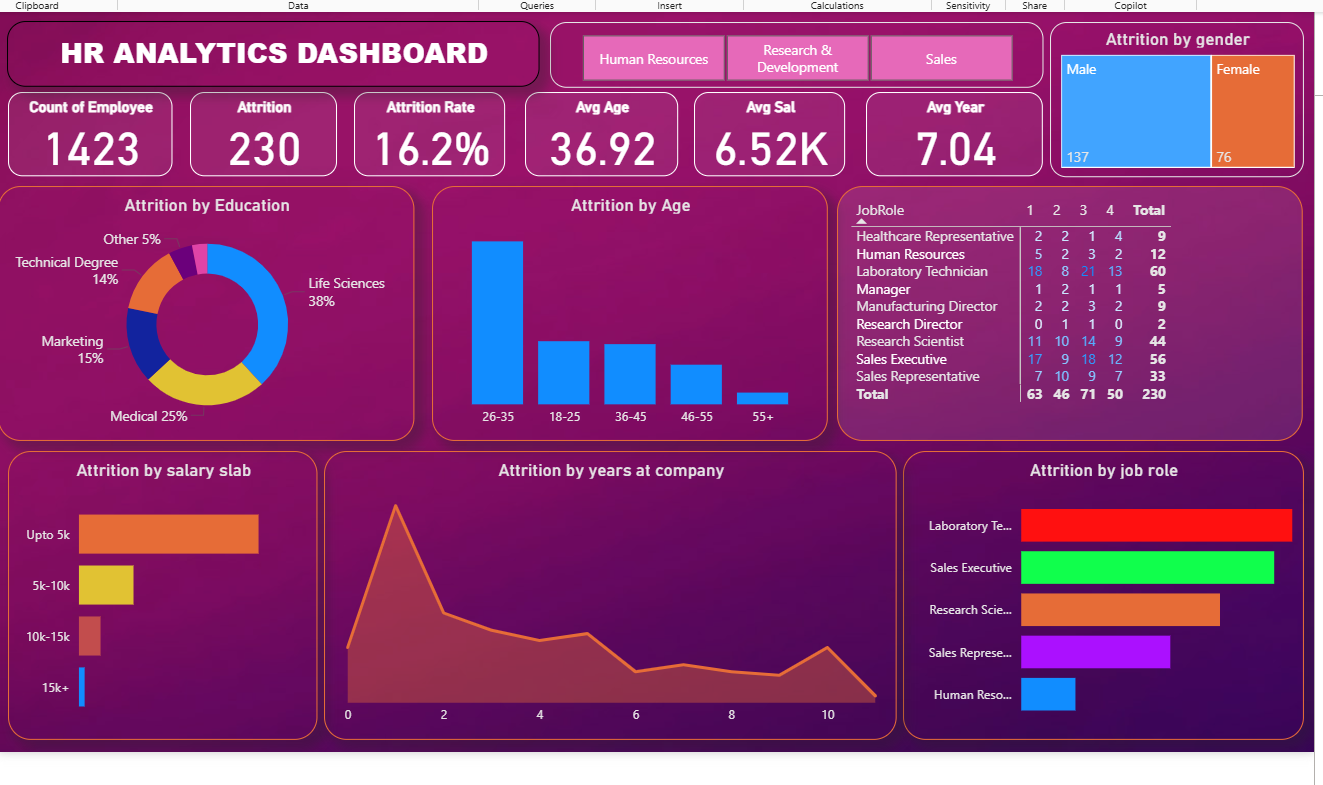

What the dashboard file says about the page in this screenshot:
{"tool":"powerbi","page":{"name":"HR_Dashboard","canvas":[1280,720],"ordinal":0},"visuals":[{"type":"card","title":"Count of Employee","fields":{"Values":["CountNonNull(HR_Analytics.EmpID)"]},"box":[9.3,77.6,159.9,82.3],"z":0},{"type":"card","title":"Attrition","fields":{"Values":["Sum(HR_Analytics.AttritionCount)"]},"box":[186.3,77.6,142.8,82.3],"z":1000},{"type":"card","title":"Attrition Rate","fields":{"Values":["HR_Analytics.AttritionRate"]},"box":[346.2,77.6,147.5,82.3],"z":2000},{"type":"card","title":"Avg Age","fields":{"Values":["Avg(HR_Analytics.Age)"]},"box":[512.3,77.6,149,82.3],"z":3000},{"type":"card","title":"Avg Sal","fields":{"Values":["Avg(HR_Analytics.MonthlyIncome)"]},"box":[676.8,77.6,147.5,82.3],"z":4000},{"type":"card","title":"Avg Year","fields":{"Values":["Avg(HR_Analytics.YearsAtCompany)"]},"box":[844.4,77.6,172.3,82.3],"z":5000},{"type":"donutChart","title":"Attrition by Education","fields":{"Category":["HR_Analytics.EducationField"],"Y":["Sum(HR_Analytics.AttritionCount)"]},"box":[0,169.2,405.1,248.4],"z":6000},{"type":"columnChart","title":"Attrition by Age","fields":{"Category":["HR_Analytics.AgeGroup"],"Y":["Sum(HR_Analytics.AttritionCount)"]},"box":[422.2,169.2,385,248.4],"z":7000},{"type":"pivotTable","fields":{"Rows":["HR_Analytics.JobRole"],"Values":["Sum(HR_Analytics.AttritionCount)"],"Columns":["HR_Analytics.JobSatisfaction"]},"box":[816.5,169.2,453.3,248.4],"z":8000},{"type":"barChart","title":"Attrition by salary slab","fields":{"Category":["HR_Analytics.SalarySlab"],"Y":["Sum(HR_Analytics.AttritionCount)"]},"box":[9.3,426.9,301.1,281],"z":9000},{"type":"barChart","title":"Attrition by job role","fields":{"Y":["Sum(HR_Analytics.AttritionCount)"],"Category":["HR_Analytics.JobRole"]},"box":[880.1,426.9,389.6,281],"z":10000},{"type":"areaChart","title":"Attrition by years at company ","fields":{"Category":["HR_Analytics.YearsAtCompany"],"Y":["Sum(HR_Analytics.AttritionCount)"]},"box":[316.7,426.9,557.3,281],"z":11000},{"type":"treemap","title":"Attrition by gender","fields":{"Group":["HR_Analytics.Gender"],"Values":["Sum(HR_Analytics.AttritionCount)"]},"box":[1023,9.3,246.8,150.6],"z":12000},{"type":"slicer","fields":{"Values":["HR_Analytics.Department"]},"box":[537.1,9.3,479.7,63.6],"z":13000},{"type":"textbox","box":[9,9,517.9,64.2],"z":14000}]}

Visuals, with their boxes in screenshot pixels (x1, y1, x2, y2):
"Count of Employee" card: (left=0, top=82, right=148, bottom=169)
"Attrition" card: (left=166, top=82, right=317, bottom=169)
"Attrition Rate" card: (left=335, top=82, right=491, bottom=169)
"Avg Age" card: (left=510, top=82, right=668, bottom=169)
"Avg Sal" card: (left=684, top=82, right=840, bottom=169)
"Avg Year" card: (left=861, top=82, right=1043, bottom=169)
"Attrition by Education" donutChart: (left=0, top=179, right=397, bottom=441)
"Attrition by Age" columnChart: (left=415, top=179, right=822, bottom=441)
pivotTable - HR_Analytics.JobRole x Sum(HR_Analytics.AttritionCount): (left=832, top=179, right=1311, bottom=441)
"Attrition by salary slab" barChart: (left=0, top=451, right=297, bottom=748)
"Attrition by job role" barChart: (left=899, top=451, right=1311, bottom=748)
"Attrition by years at company " areaChart: (left=304, top=451, right=893, bottom=748)
"Attrition by gender" treemap: (left=1050, top=10, right=1311, bottom=169)
slicer - HR_Analytics.Department: (left=537, top=10, right=1044, bottom=77)
textbox: (left=0, top=10, right=526, bottom=77)
